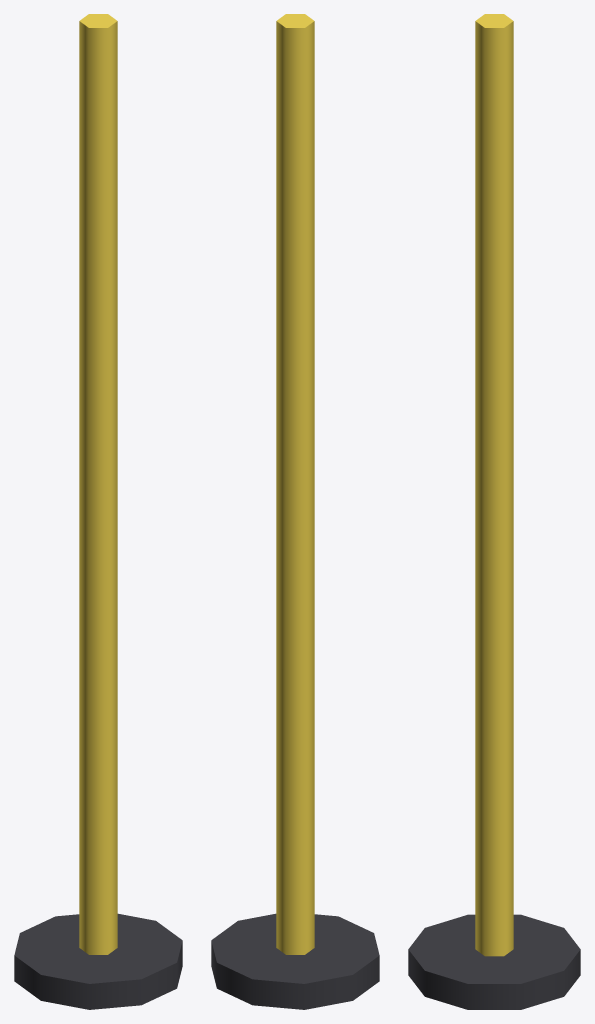
Rendered from caution_tape_post.glb.
3 renders of one model, left to right at view 1: azimuth 30°, elevation 25°; view 2: azimuth 150°, elevation 25°; view 3: azimuth 270°, elevation 25°, orthographic.
Parts seen in each view (by area): view 1: caution_tape_post; view 2: caution_tape_post; view 3: caution_tape_post.
Part boxes in pixels (x1,y1,x2,y2): caution_tape_post: (14,14,182,1009); caution_tape_post: (211,14,379,1009); caution_tape_post: (408,14,580,1009).
Size of the model in its own units: 0.1712 by 1.1 by 0.18.
